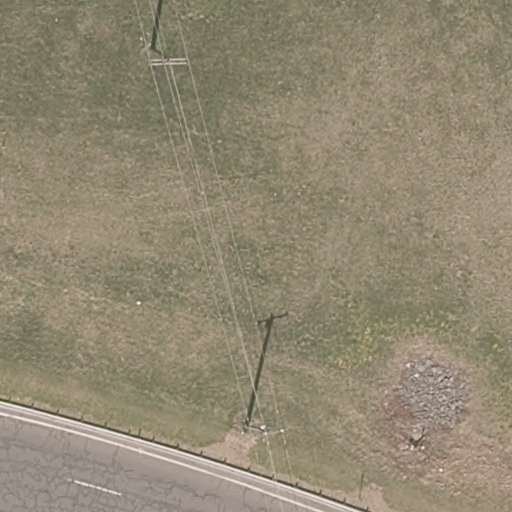DT: (148, 55, 191, 73), (246, 425, 286, 442)
